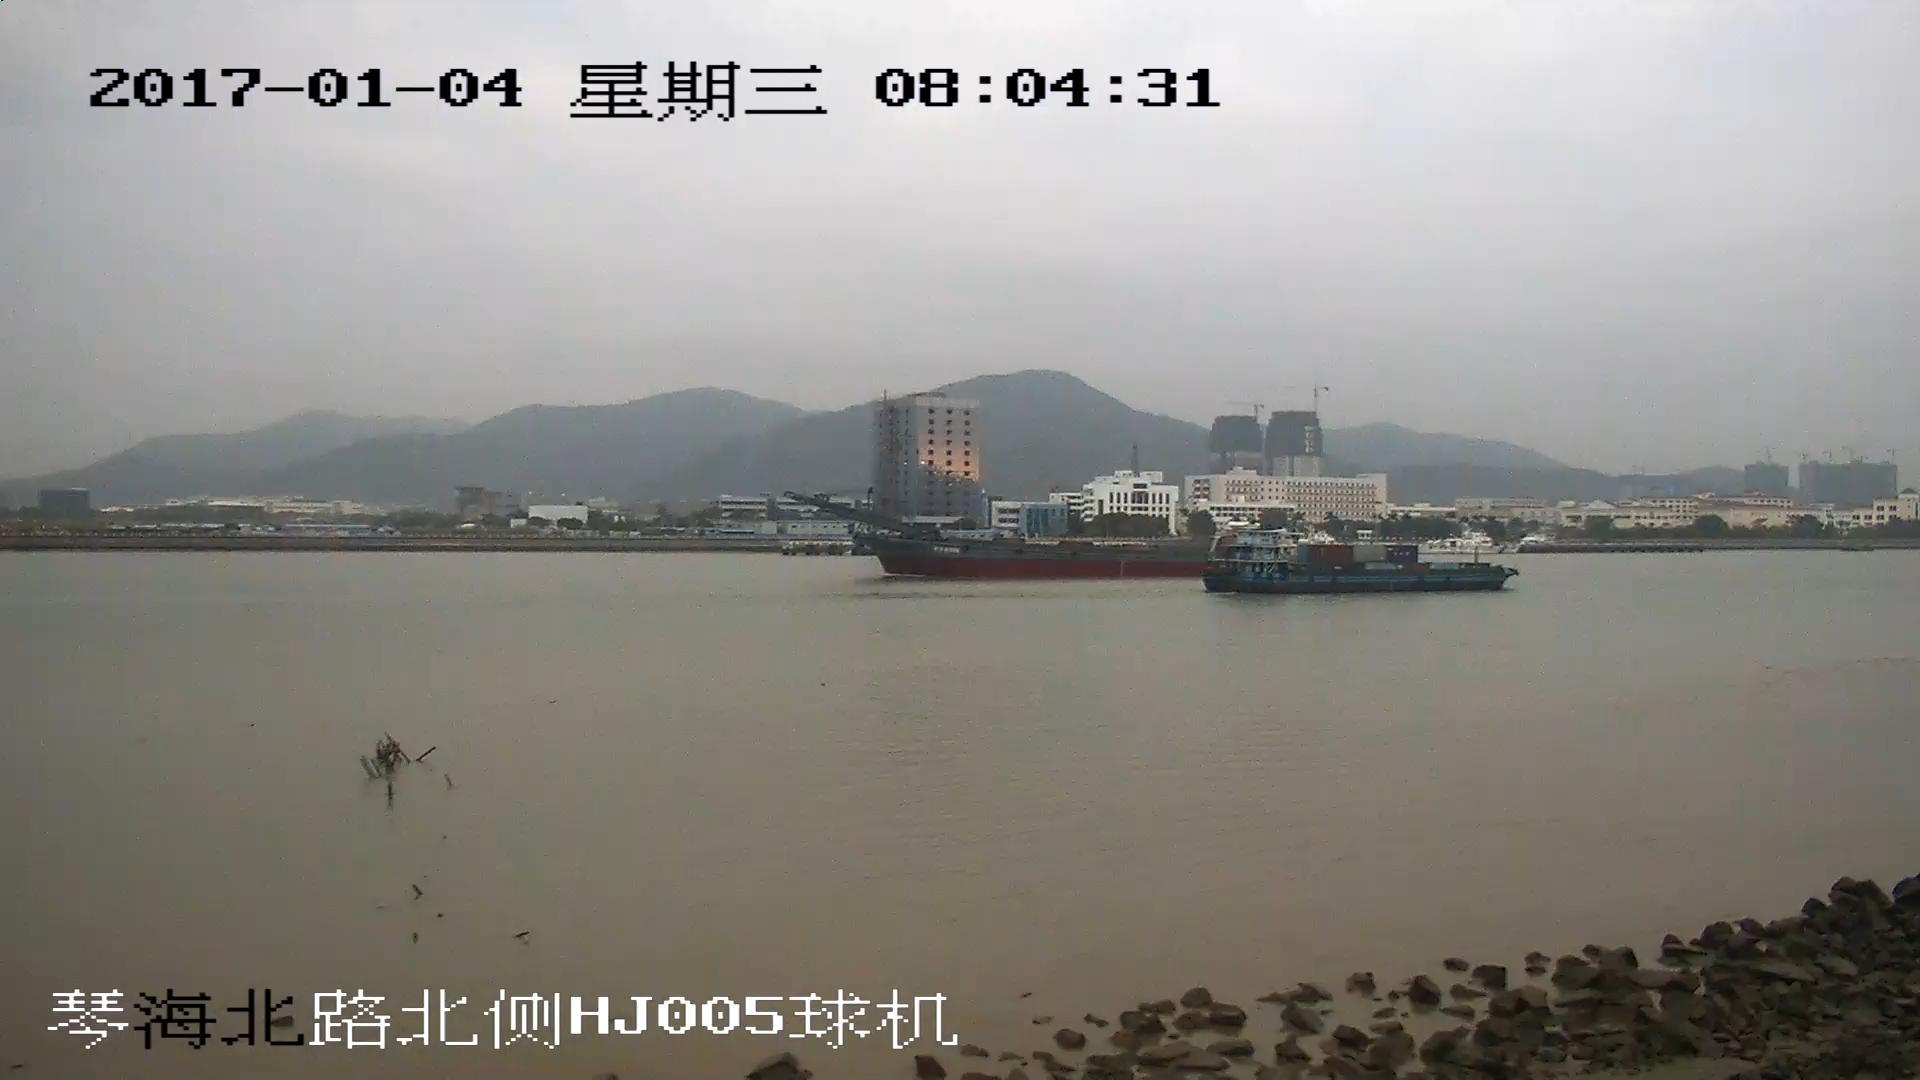Ship: (790, 492, 1203, 580), (1207, 525, 1518, 595)
